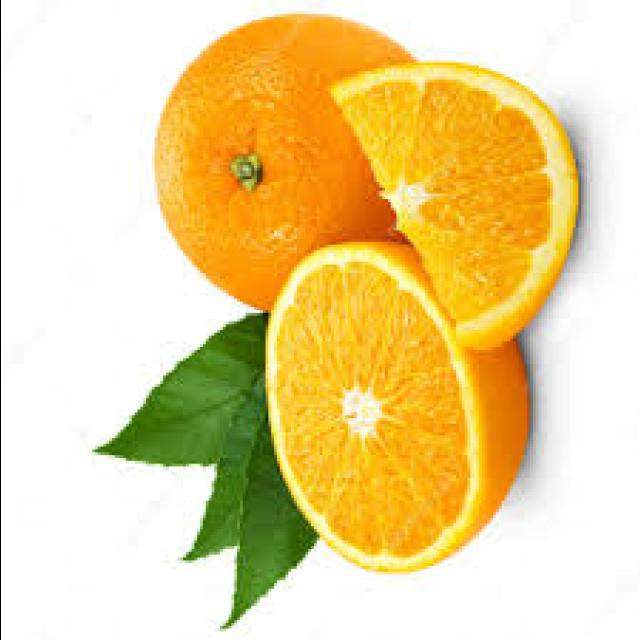orange: (158, 15, 418, 314)
